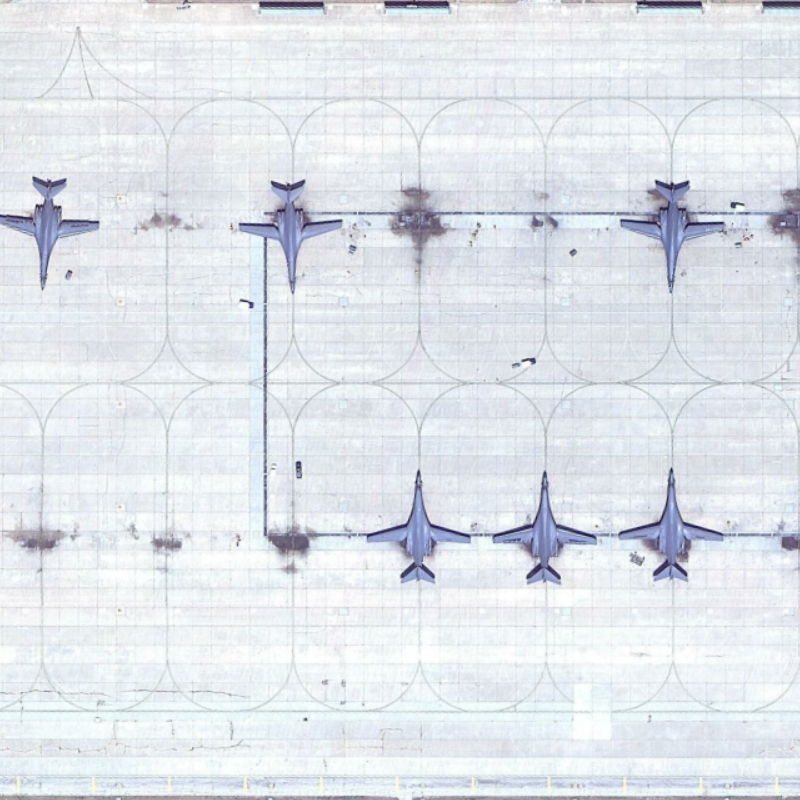A10: (228, 169, 371, 302), (357, 455, 480, 592), (611, 170, 740, 299), (612, 457, 730, 589), (1, 166, 116, 300), (490, 462, 595, 596)
